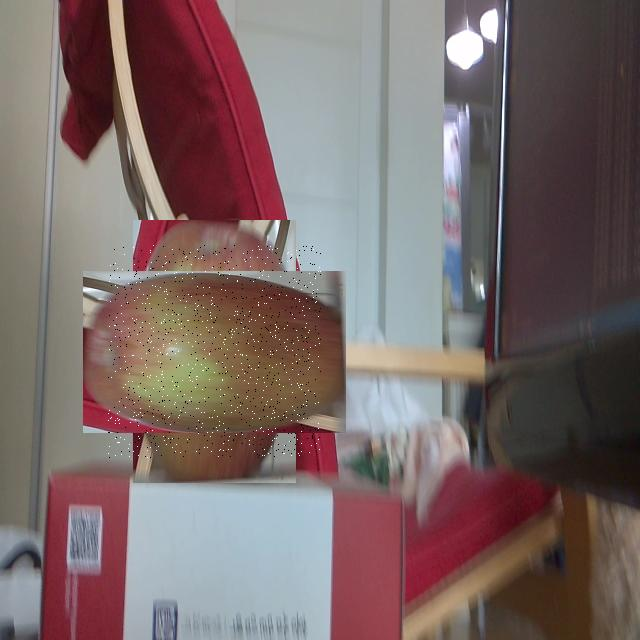apple: (108, 245, 321, 458)
